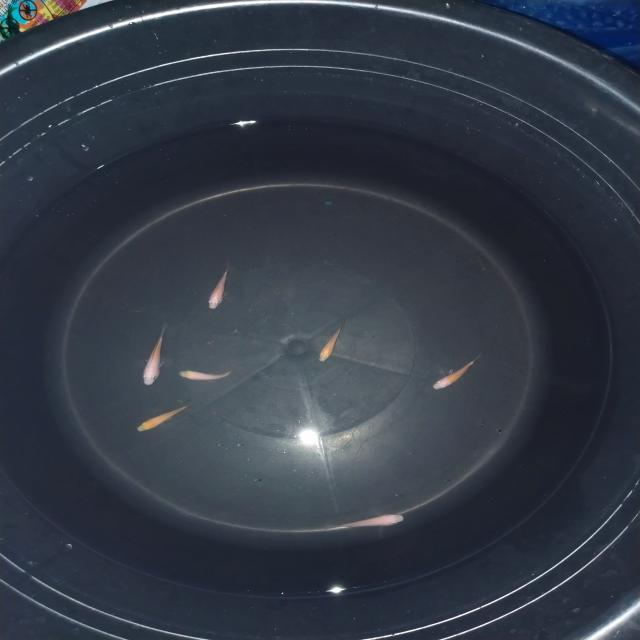nila: (136, 319, 178, 392), (428, 351, 480, 394), (318, 510, 412, 533), (133, 403, 189, 436), (202, 262, 235, 312), (314, 322, 346, 368), (173, 364, 237, 386)
